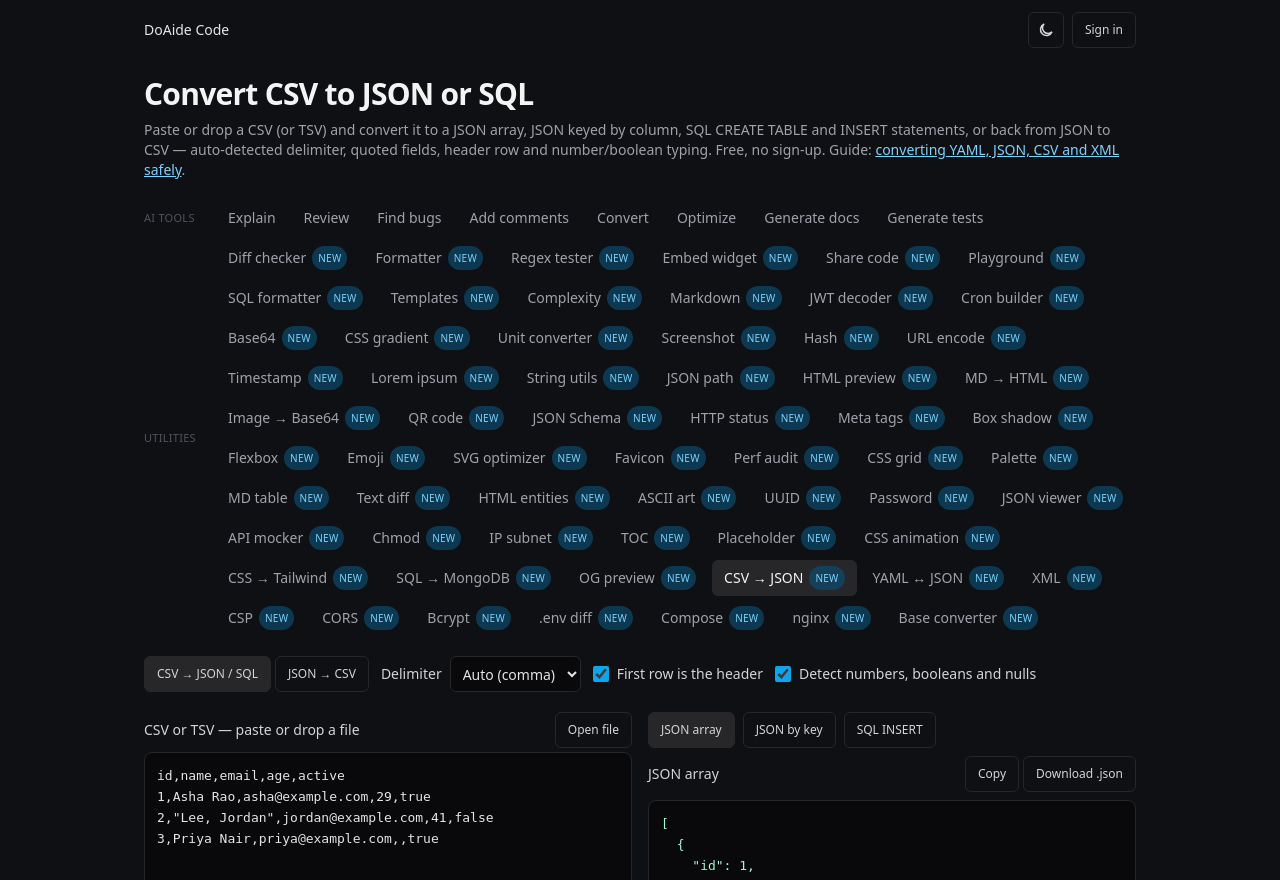
CsvPage › converts the sample CSV to JSON and SQL
expect the heading reads "Convert CSV to JSON or SQL": met, box left=144, top=73, right=533, bottom=114
Click the button with test id "csv-format-sql" at {"x": 890, "y": 730}, box left=844, top=712, right=936, bottom=748
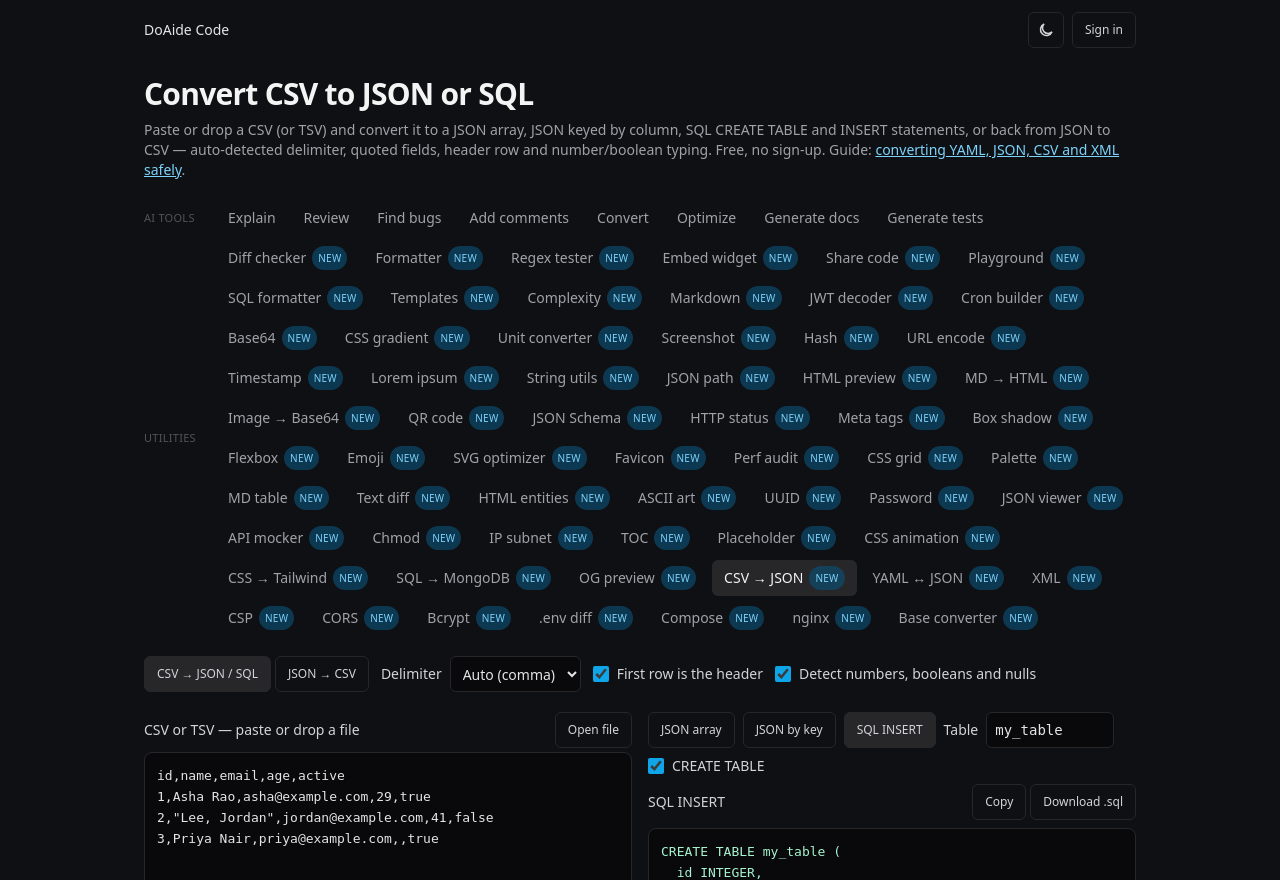
Replace the text in the field with test id "csv-table" with "people" at {"x": 1050, "y": 730}, box left=986, top=712, right=1114, bottom=748
(page scrolled)
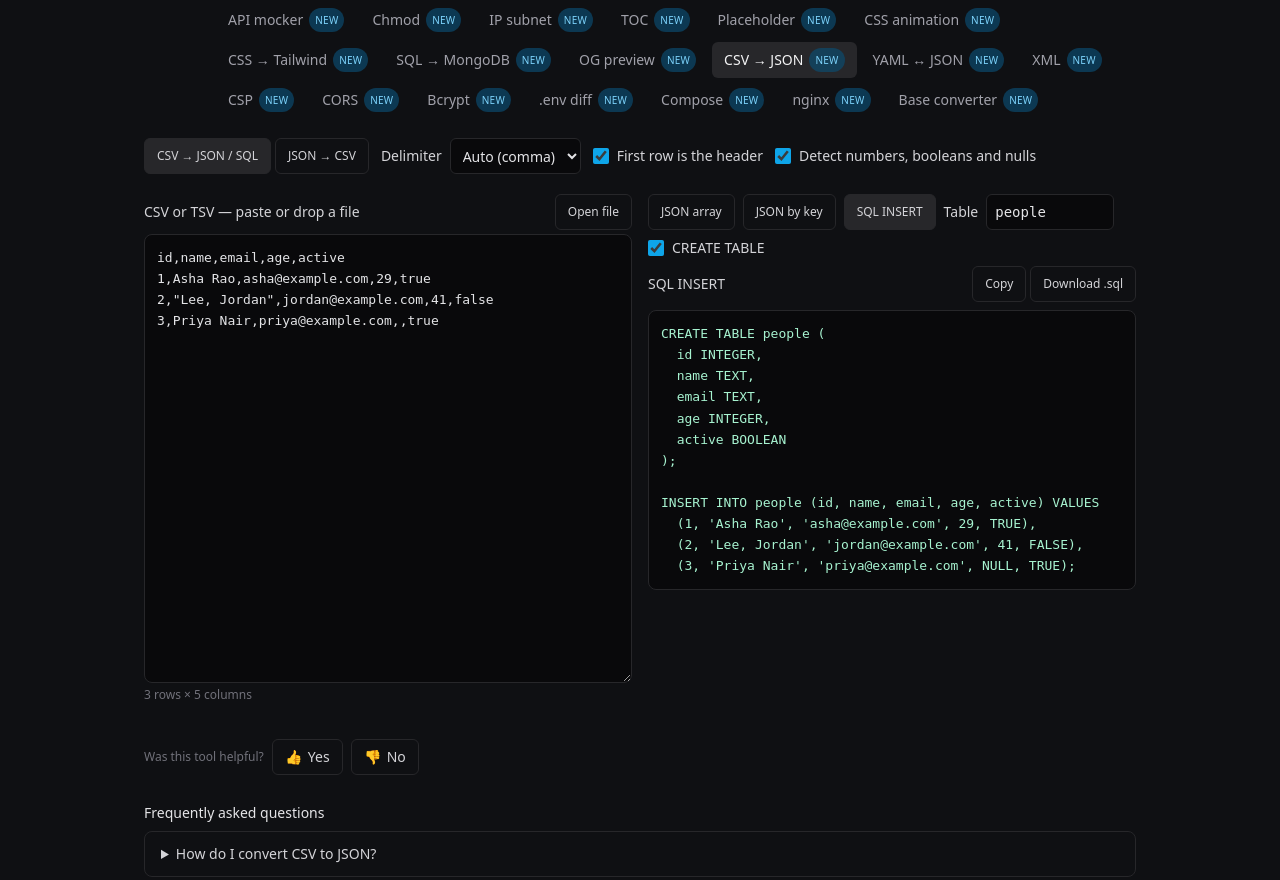
expect the text with test id "csv-out" shows "INSERT INTO people (id, name, email, age, active) VALUES": met, box left=661, top=326, right=1099, bottom=573
